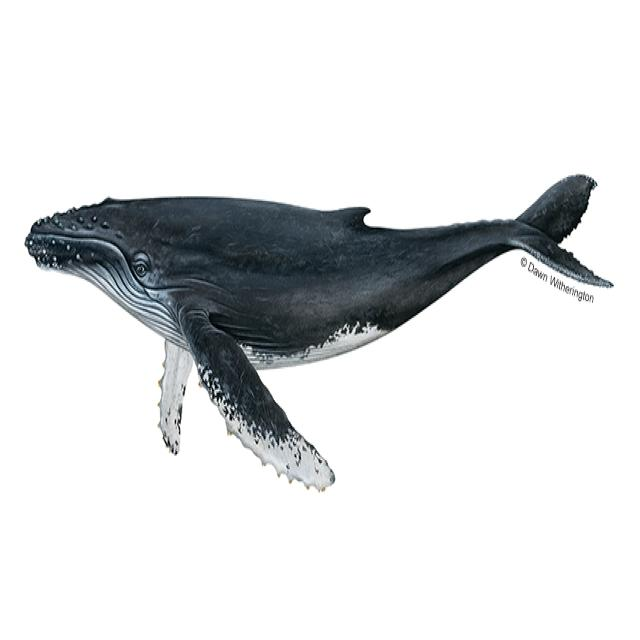delfin: (25, 175, 611, 490)
